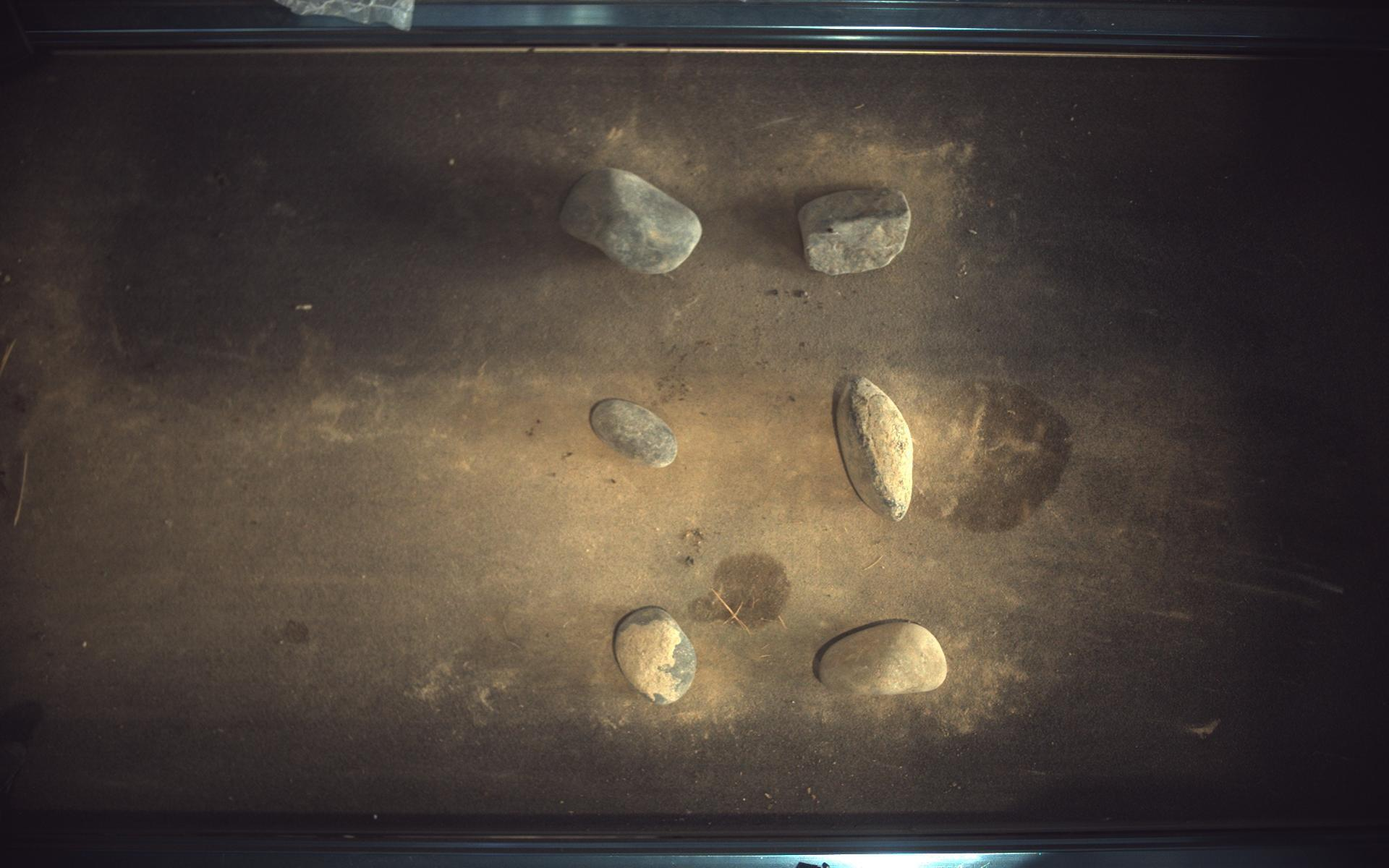stone: (560, 167, 703, 273), (838, 377, 915, 521), (815, 620, 949, 696), (799, 187, 912, 274), (614, 607, 697, 706), (590, 399, 679, 468)
